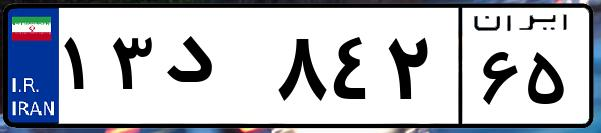1: (57, 26, 110, 100)
2: (385, 28, 445, 110)
3: (110, 28, 158, 98)
4: (330, 28, 385, 110)
5: (525, 38, 570, 115)
6: (475, 38, 525, 113)
8: (270, 28, 330, 110)
د: (158, 20, 270, 120)
